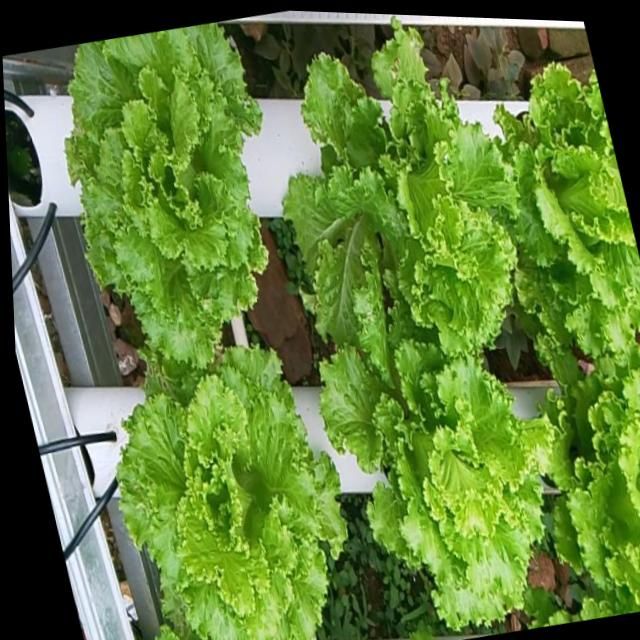Mature: (252, 27, 519, 353), (66, 25, 269, 375), (322, 342, 555, 636), (117, 348, 348, 640), (498, 66, 640, 361), (548, 338, 640, 613)
